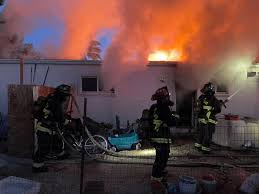smoke: (4, 1, 257, 63)
